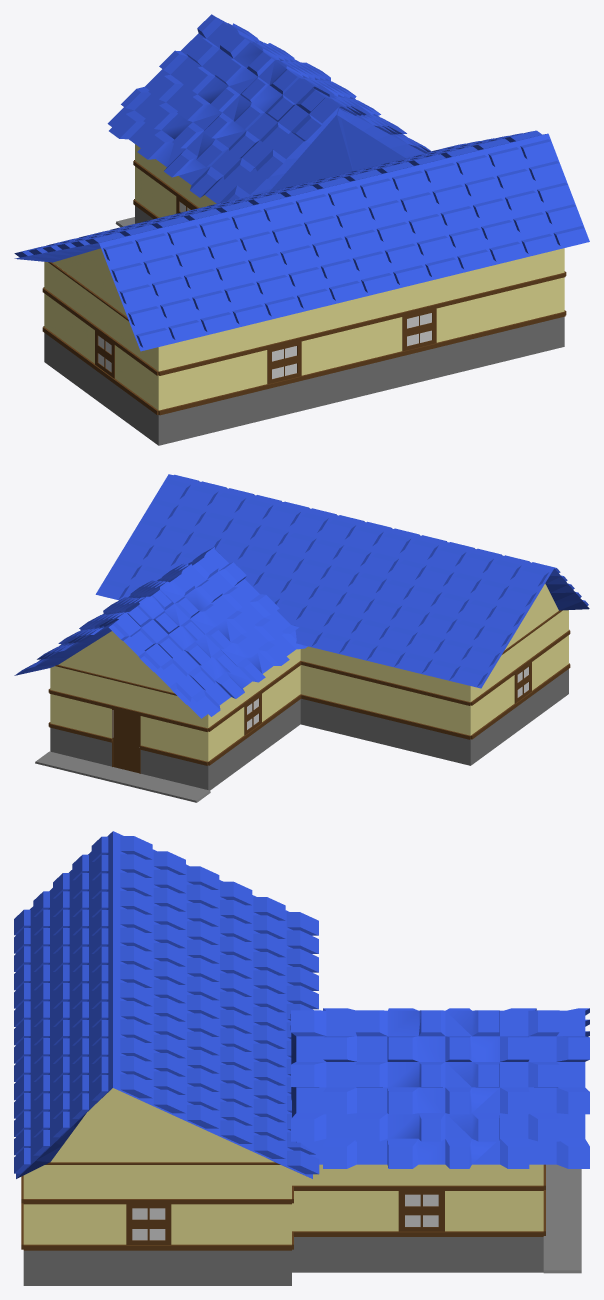
The model's file is casa8.fbx.
3 views of the same model, one above another, from view 1: azimuth 30°, elevation 25°; view 2: azimuth 150°, elevation 25°; view 3: azimuth 270°, elevation 25° (orthographic). The views are drawn at different scales.
Parts seen in each view (by area): view 1: Cube.002, Cube, Cube.001; view 2: Cube, Cube.002, Cube.001; view 3: Cube.002, Cube, Cube.001.
Boxes of the visible parts, bbox=[...] form: Cube.002: bbox=[14, 130, 589, 351]; Cube: bbox=[42, 144, 566, 445]; Cube.001: bbox=[107, 14, 431, 203]; Cube: bbox=[35, 583, 570, 802]; Cube.002: bbox=[95, 474, 589, 688]; Cube.001: bbox=[14, 547, 307, 718]; Cube.002: bbox=[14, 831, 319, 1178]; Cube: bbox=[21, 1088, 581, 1285]; Cube.001: bbox=[290, 1008, 589, 1168].
Bounding box in the file's own units: 1335 × 519 × 1265.
